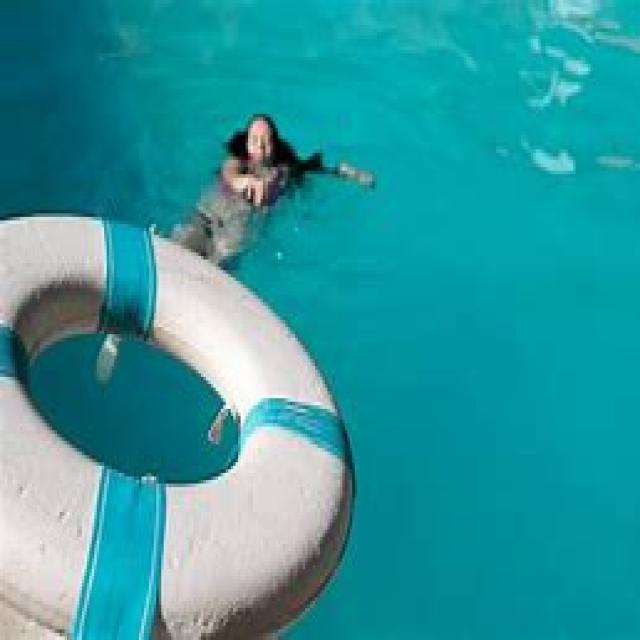Drowning: (188, 108, 378, 240)
